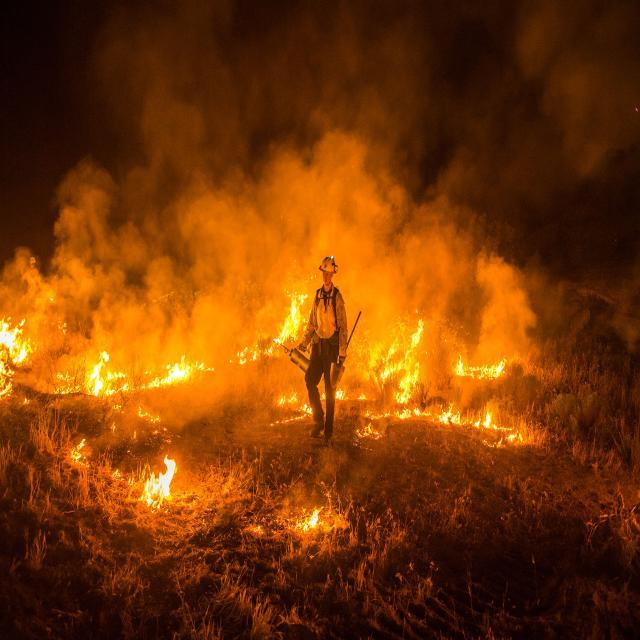Fire: (1, 238, 560, 552)
Smoke: (43, 5, 636, 284)
